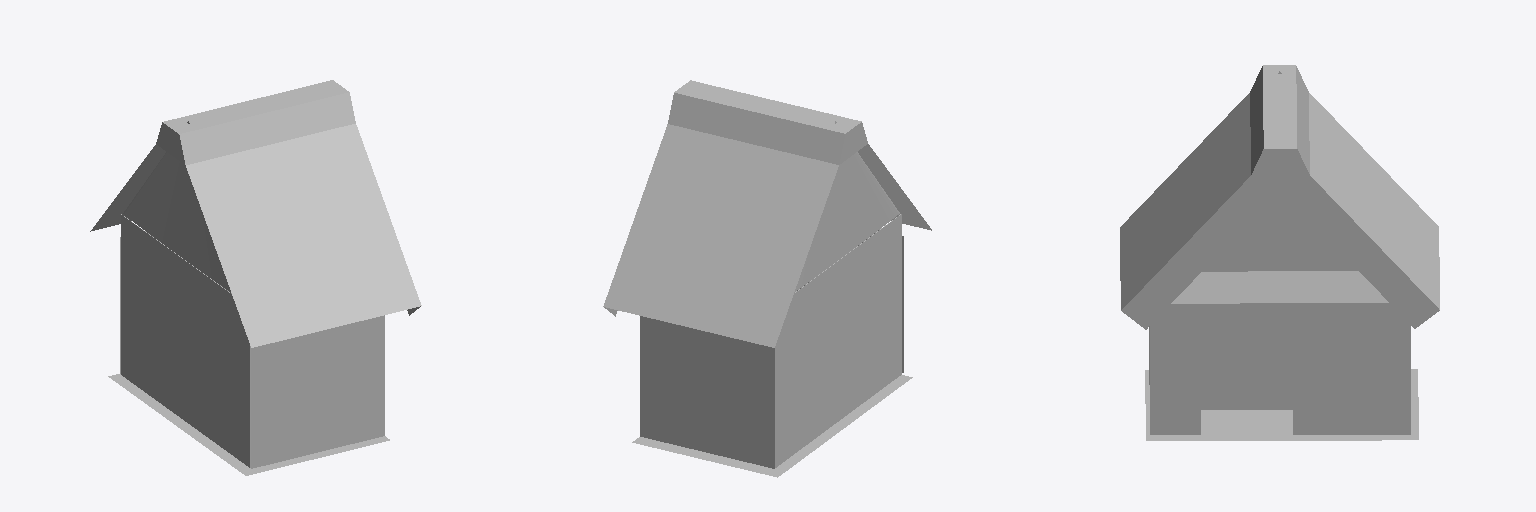
File: CelesticTownHouse.obj
3 renders of one model, left to right at view 1: azimuth 30°, elevation 25°; view 2: azimuth 150°, elevation 25°; view 3: azimuth 270°, elevation 25°, orthographic.
Visible parts, largest first — view 1: CelesticTownHouse, Cube.004, Cone.001; view 2: CelesticTownHouse, Cube.004, Cone.001; view 3: CelesticTownHouse.
Boxes of the visible parts, x1,y1,x2,y2 form: CelesticTownHouse: [90, 80, 421, 475]; Cube.004: [121, 214, 250, 467]; Cone.001: [123, 121, 230, 292]; CelesticTownHouse: [603, 80, 931, 477]; Cube.004: [775, 214, 901, 467]; Cone.001: [794, 121, 899, 292]; CelesticTownHouse: [1120, 65, 1439, 440].
Bounding box in the file's own units: 47.42 × 79.78 × 76.26.